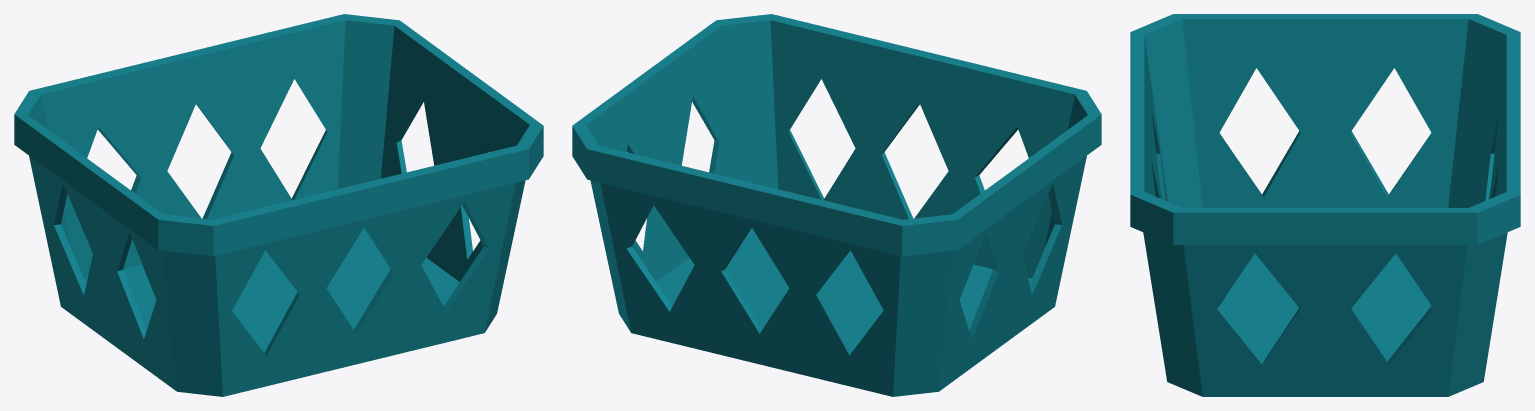
The model's file is SM_Cook_Basket_Cyan_01.glb.
3 renders of one model, left to right at view 1: azimuth 30°, elevation 25°; view 2: azimuth 150°, elevation 25°; view 3: azimuth 270°, elevation 25°, orthographic. The views are drawn at different scales.
Visible parts, largest first — view 1: SM_Cook_Basket_Cyan_01; view 2: SM_Cook_Basket_Cyan_01; view 3: SM_Cook_Basket_Cyan_01.
Boxes of the visible parts, <box> form: SM_Cook_Basket_Cyan_01: <box>14,14,543,396</box>; SM_Cook_Basket_Cyan_01: <box>572,14,1101,396</box>; SM_Cook_Basket_Cyan_01: <box>1130,14,1520,396</box>.
Bounding box in the file's own units: 0.318 × 0.15 × 0.2638.
1 material, 1 textured.
